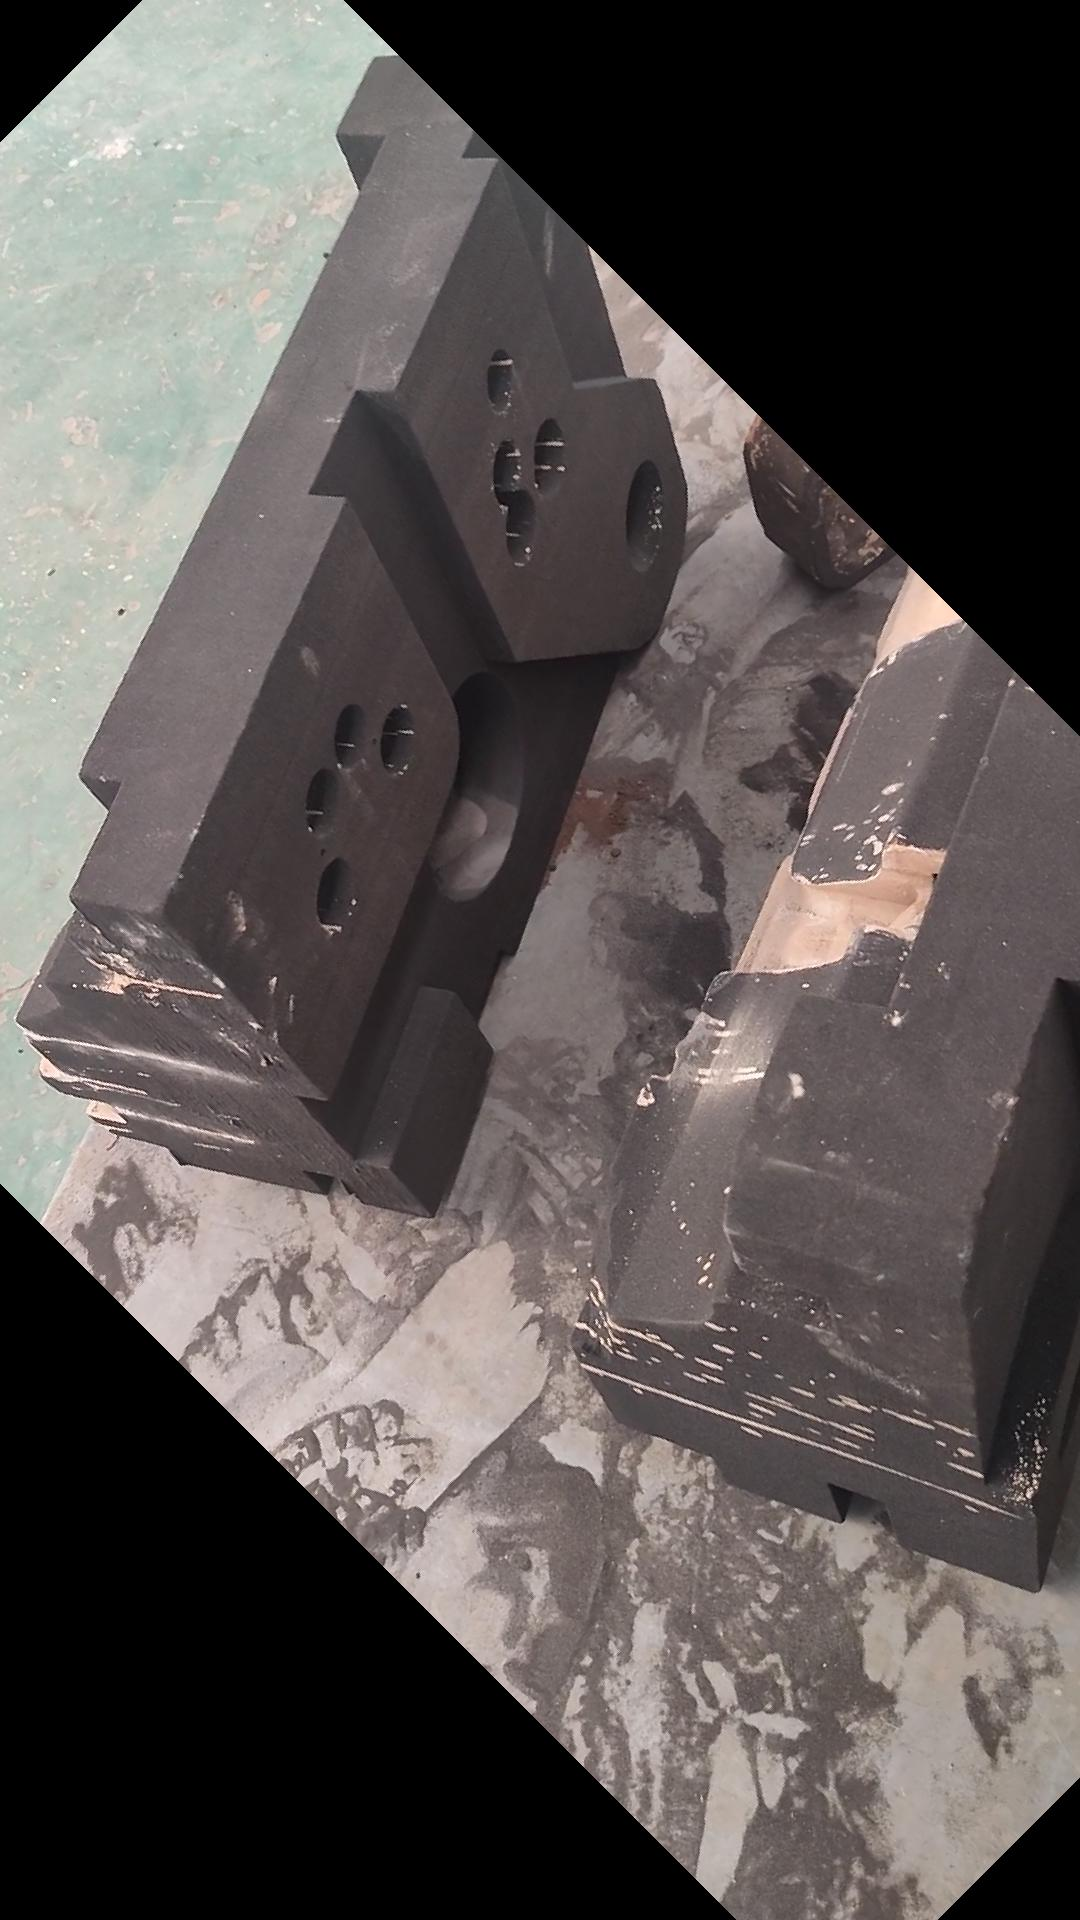pouring hole: (622, 458, 667, 574), (1059, 1371, 1080, 1468)
